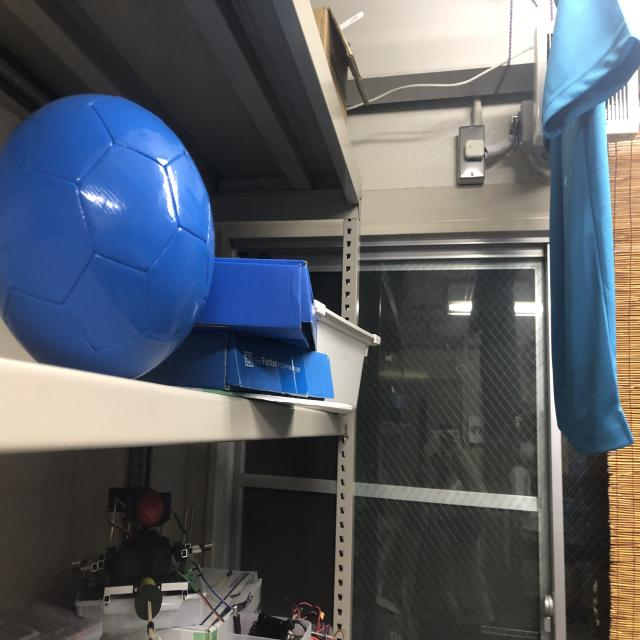blue_ball: (0, 89, 221, 380)
